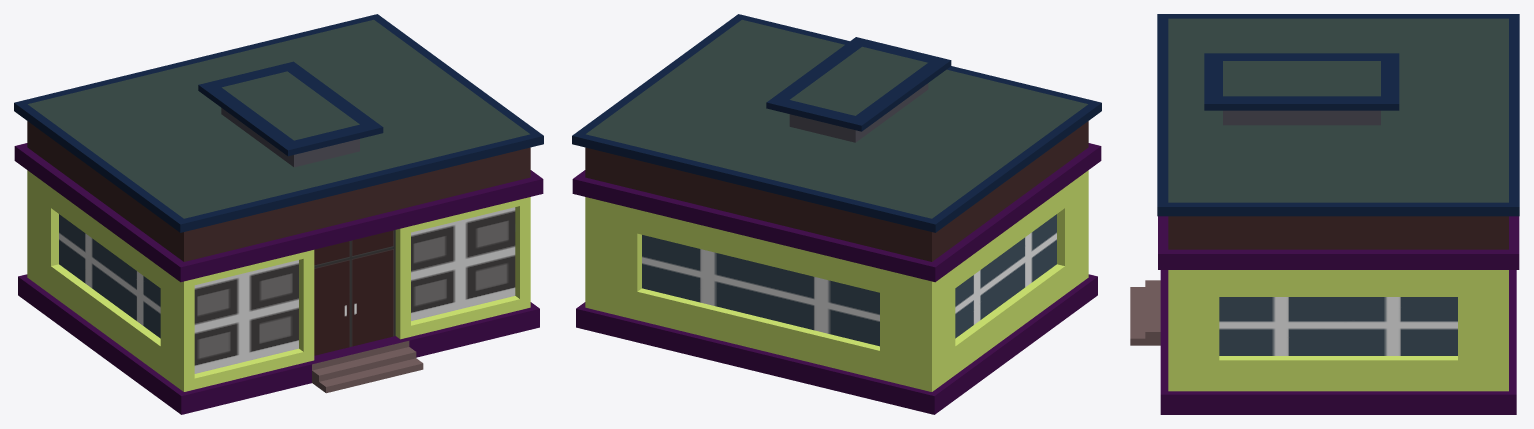
Rendered from building13c.FBX.
The picture shows the model from 3 angles, left to right: view 1: azimuth 30°, elevation 25°; view 2: azimuth 150°, elevation 25°; view 3: azimuth 270°, elevation 25°; orthographic projection. The views are drawn at different scales.
Parts seen in each view (by area): view 1: building13c; view 2: building13c; view 3: building13c.
Boxes of the visible parts, x1,y1,x2,y2 form: building13c: (14, 14, 543, 414); building13c: (572, 14, 1101, 414); building13c: (1130, 14, 1519, 414).
Bounding box in the file's own units: 16.08 × 9.25 × 13.71.
